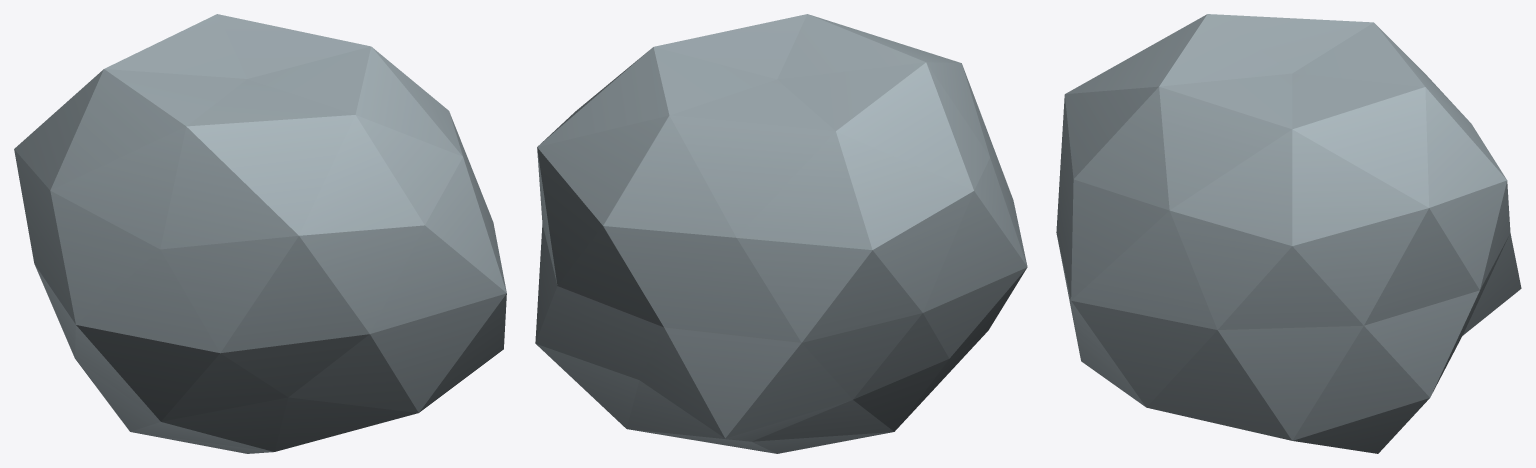
File: smoke_puff_b.glb
3 views of the same model, side by side, from view 1: azimuth 30°, elevation 25°; view 2: azimuth 150°, elevation 25°; view 3: azimuth 270°, elevation 25° (orthographic). The views are drawn at different scales.
Parts seen in each view (by area): view 1: smoke_puff_b; view 2: smoke_puff_b; view 3: smoke_puff_b.
Boxes of the visible parts, bbox=[...] form: smoke_puff_b: bbox=[14, 14, 506, 453]; smoke_puff_b: bbox=[535, 14, 1027, 453]; smoke_puff_b: bbox=[1056, 14, 1521, 453].
Size of the model in its own units: 0.9677 by 0.8365 by 0.9501.
Materials: 1 (1 with a texture image).
